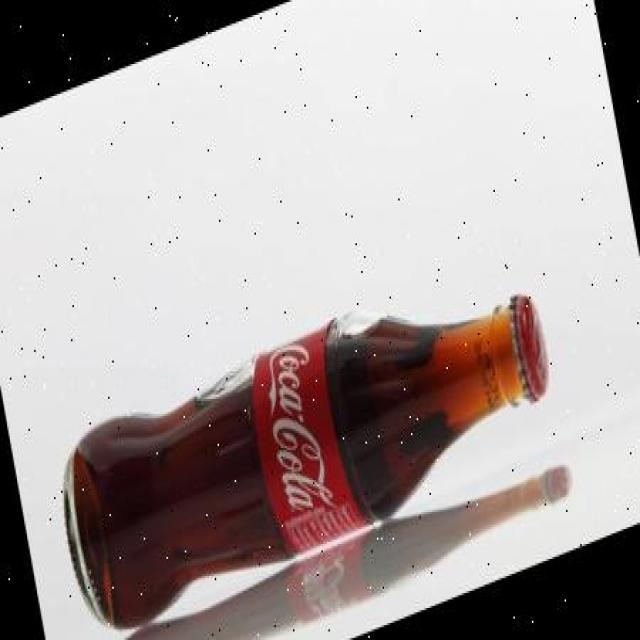coca-cola: (38, 219, 575, 640)
